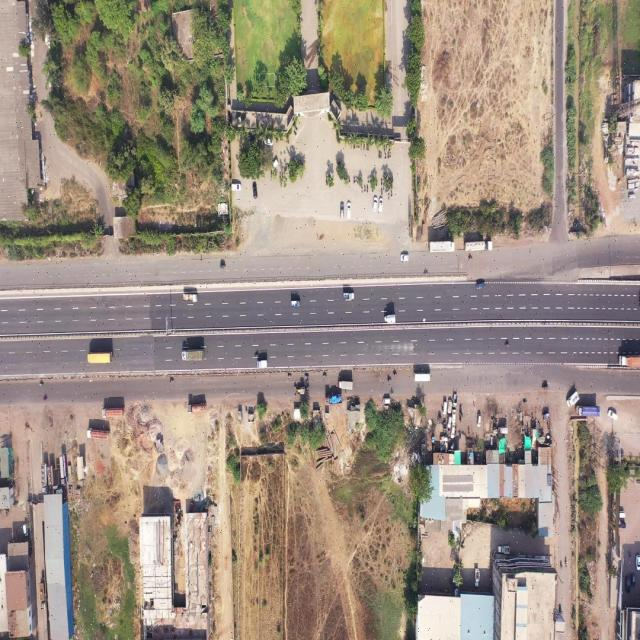3W: (543, 413, 550, 420), (220, 264, 226, 269), (543, 385, 548, 390)
Bus: (87, 352, 113, 364), (414, 373, 430, 382)
Cars: (607, 409, 618, 421), (231, 183, 242, 191), (635, 554, 640, 571), (23, 524, 29, 536), (378, 198, 383, 212), (476, 283, 486, 290), (631, 573, 636, 587), (340, 203, 344, 220), (442, 401, 447, 414), (447, 415, 452, 428), (373, 196, 377, 212), (347, 202, 351, 218), (253, 183, 257, 199), (626, 577, 630, 593), (400, 255, 409, 262), (619, 520, 626, 529), (448, 399, 452, 413), (619, 510, 625, 519), (477, 414, 481, 427), (384, 398, 391, 404)
LCV: (497, 545, 510, 555), (182, 294, 198, 302), (384, 315, 396, 324), (475, 567, 480, 587), (452, 394, 458, 408), (343, 293, 354, 300), (258, 361, 268, 368), (291, 301, 300, 307)
M2W: (388, 377, 392, 382), (379, 150, 381, 159), (353, 175, 355, 184), (348, 175, 350, 184), (469, 257, 473, 261), (381, 187, 383, 195), (384, 152, 386, 160), (364, 185, 366, 193), (362, 186, 364, 194), (287, 374, 291, 378), (323, 374, 327, 378), (393, 372, 397, 376), (561, 562, 563, 570), (39, 383, 44, 386), (391, 191, 393, 198), (381, 178, 383, 185), (389, 151, 391, 158), (366, 144, 368, 151), (566, 561, 568, 568), (424, 272, 428, 275), (368, 179, 370, 185), (363, 144, 365, 150), (506, 343, 509, 347), (44, 397, 47, 401), (381, 150, 382, 159), (356, 175, 357, 184), (255, 354, 258, 357), (170, 380, 173, 383), (305, 375, 308, 378), (388, 151, 389, 159), (388, 193, 389, 200), (367, 186, 368, 193)
MAV: (59, 454, 68, 486), (464, 241, 492, 251), (618, 355, 640, 367), (87, 427, 109, 439), (182, 350, 205, 361), (430, 242, 455, 252), (102, 408, 125, 418), (41, 463, 48, 493), (187, 403, 206, 414)
Truck: (576, 405, 601, 417), (326, 394, 343, 405), (339, 379, 353, 390)
